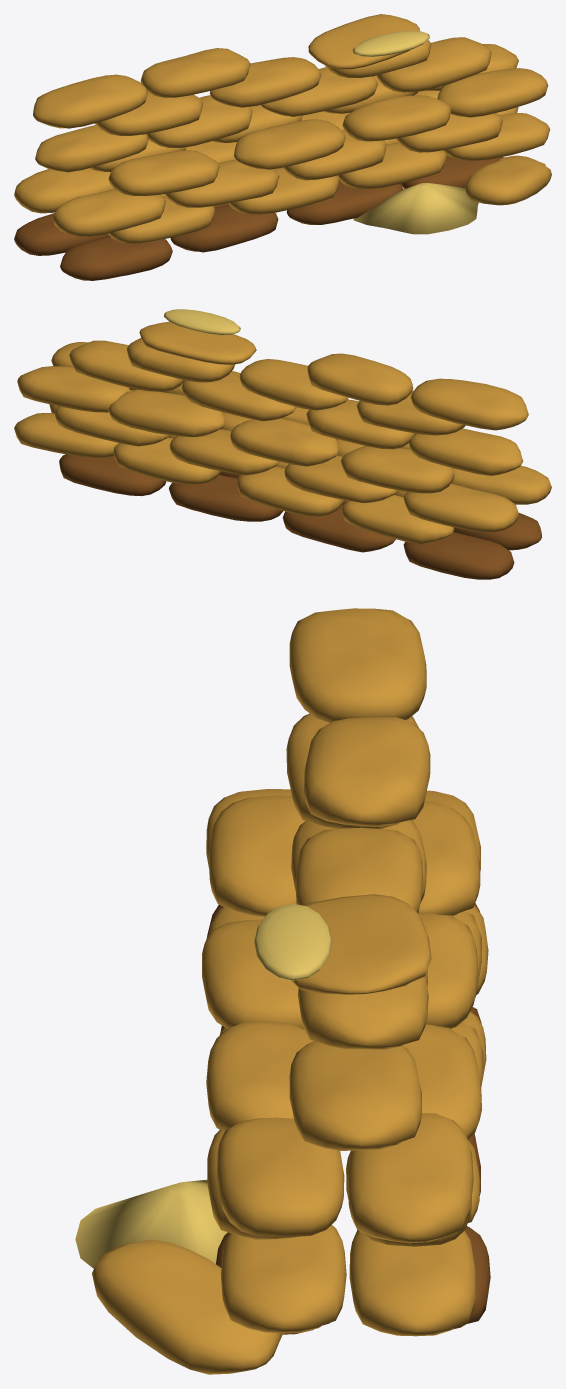
Rendered from sandbags.glb.
The picture shows the model from 3 angles, top to bottom: view 1: azimuth 30°, elevation 25°; view 2: azimuth 150°, elevation 25°; view 3: azimuth 270°, elevation 25°; orthographic projection. The views are drawn at different scales.
Visible parts, largest first — view 1: sand_pile, bag_6_0_0, bag_3_0_1, bag_3_0_0, bag_6_0_1, bag_3_0_3, bag_2_0_0, bag_3_0_2, bag_4_0_3, bag_0_0_0, bag_4_0_0, bag_5_0_1 (+25 smaller); view 2: bag_6_0_0, bag_3_1_2, bag_2_1_0, bag_6_0_1, bag_3_1_0, bag_4_0_0, bag_3_1_1, bag_0_1_0, bag_3_1_3, bag_5_0_1, bag_burst, bag_4_0_3 (+18 smaller); view 3: bag_fallen, bag_6_0_0, bag_3_0_3, bag_3_1_3, bag_4_0_3, bag_6_0_1, bag_1_0_3, bag_1_1_3, bag_burst, bag_3_0_0, bag_5_0_1, bag_3_0_2 (+12 smaller).
Part boxes in pixels (x1,y1,x2,y2): sand_pile: (353, 183, 478, 234); bag_6_0_0: (33, 74, 147, 128); bag_3_0_1: (234, 119, 345, 169); bag_3_0_0: (108, 150, 219, 195); bag_6_0_1: (140, 48, 250, 97); bag_3_0_3: (437, 68, 548, 117); bag_2_0_0: (53, 189, 165, 236); bag_3_0_2: (342, 95, 451, 141); bag_4_0_3: (376, 37, 491, 92); bag_0_0_0: (60, 236, 172, 280); bag_4_0_0: (35, 125, 148, 172); bag_5_0_1: (209, 57, 321, 107); bag_6_0_0: (410, 378, 528, 430); bag_3_1_2: (108, 390, 225, 437); bag_2_1_0: (403, 483, 518, 532); bag_6_0_1: (307, 353, 413, 405); bag_3_1_0: (340, 446, 454, 493); bag_4_0_0: (408, 428, 523, 475); bag_3_1_1: (230, 418, 339, 466); bag_0_1_0: (403, 532, 514, 579); bag_3_1_3: (17, 366, 129, 412); bag_5_0_1: (239, 359, 348, 410); bag_burst: (139, 321, 256, 364); bag_4_0_3: (69, 340, 184, 391); bag_fallen: (92, 1240, 282, 1374); bag_6_0_0: (289, 608, 426, 722); bag_3_0_3: (217, 1117, 344, 1237); bag_3_1_3: (347, 1113, 473, 1243); bag_4_0_3: (289, 1041, 421, 1150); bag_6_0_1: (304, 717, 430, 827); bag_1_0_3: (220, 1225, 346, 1333); bag_1_1_3: (349, 1230, 476, 1336); bag_burst: (291, 894, 431, 994); bag_3_0_0: (208, 795, 305, 917); bag_5_0_1: (295, 827, 423, 913); bag_3_0_2: (206, 1021, 313, 1131).
Size of the model in its own units: 2.63 by 0.8382 by 0.9527.
